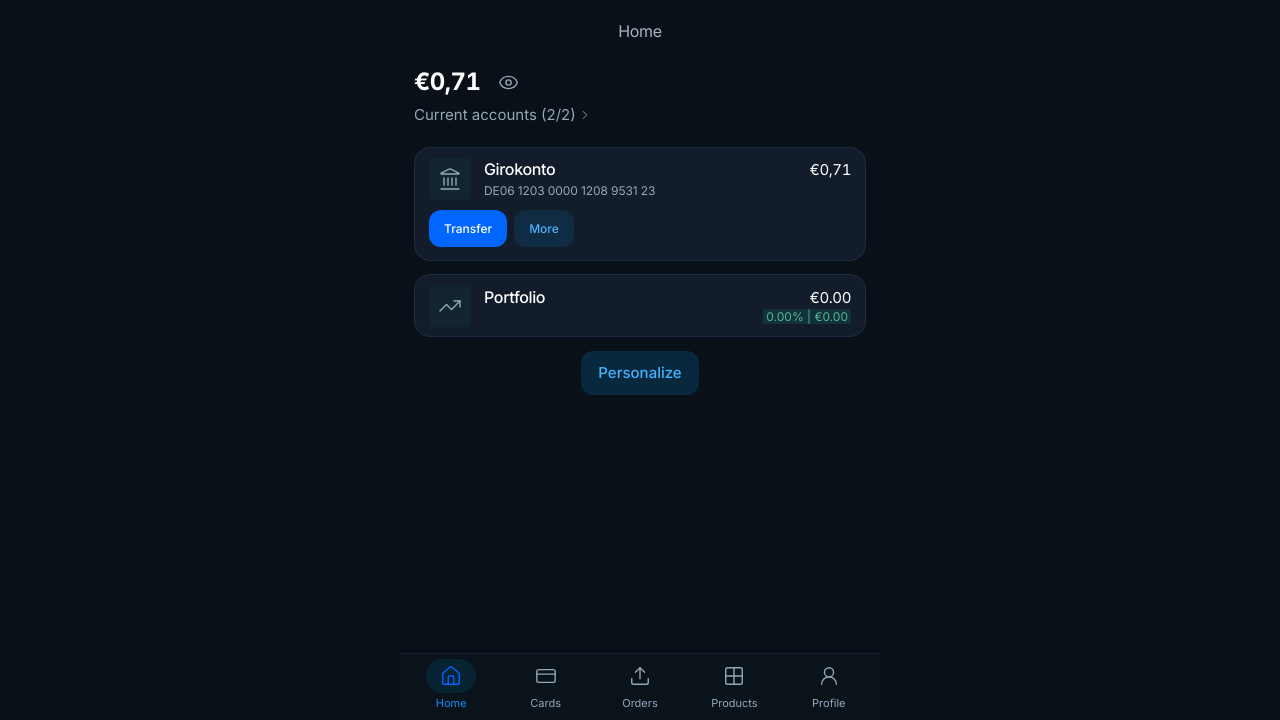
Test: More sheet and Home controls › dismisses via backdrop
Click the button "More" at (544, 228), box [514,210,574,247]
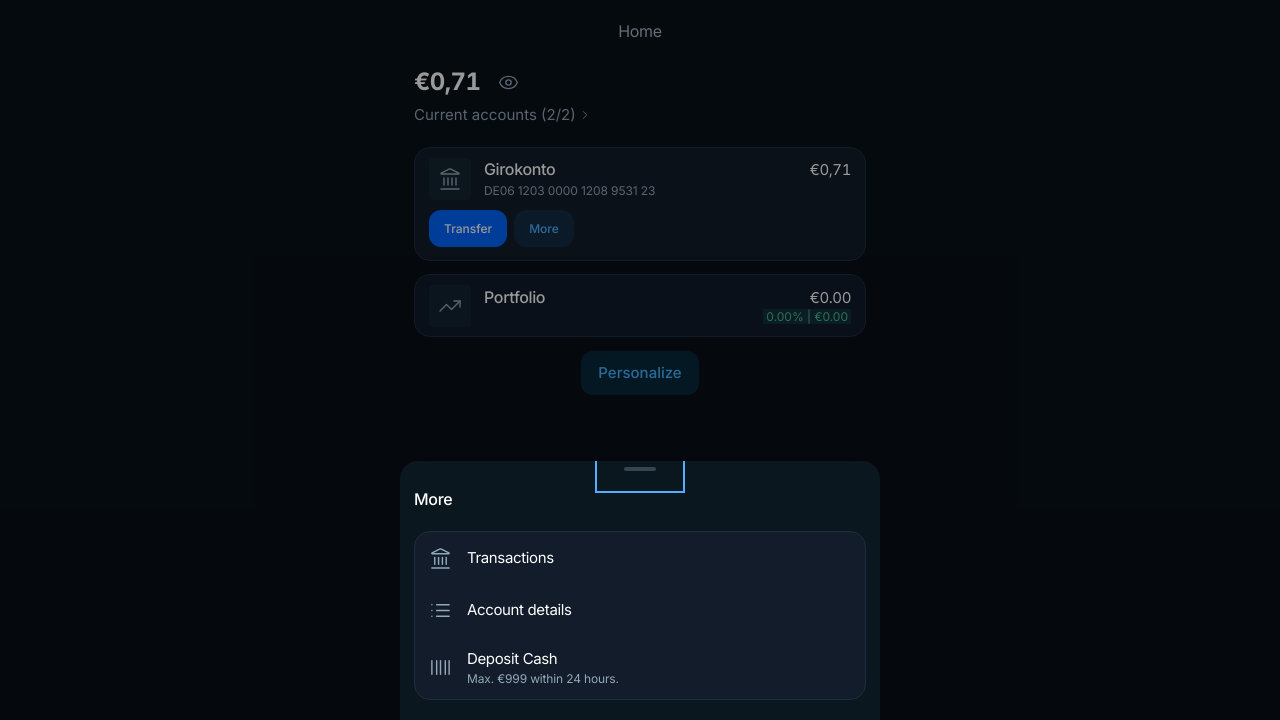
Now the dialog "More" is shown, box [400,461,880,719]
Now the text "Max. €999 within 24 hours." is shown, box [467,670,619,687]
Press the mouse on the element with test id "modal-backdrop" at (640, 360), box [0,0,1279,719]
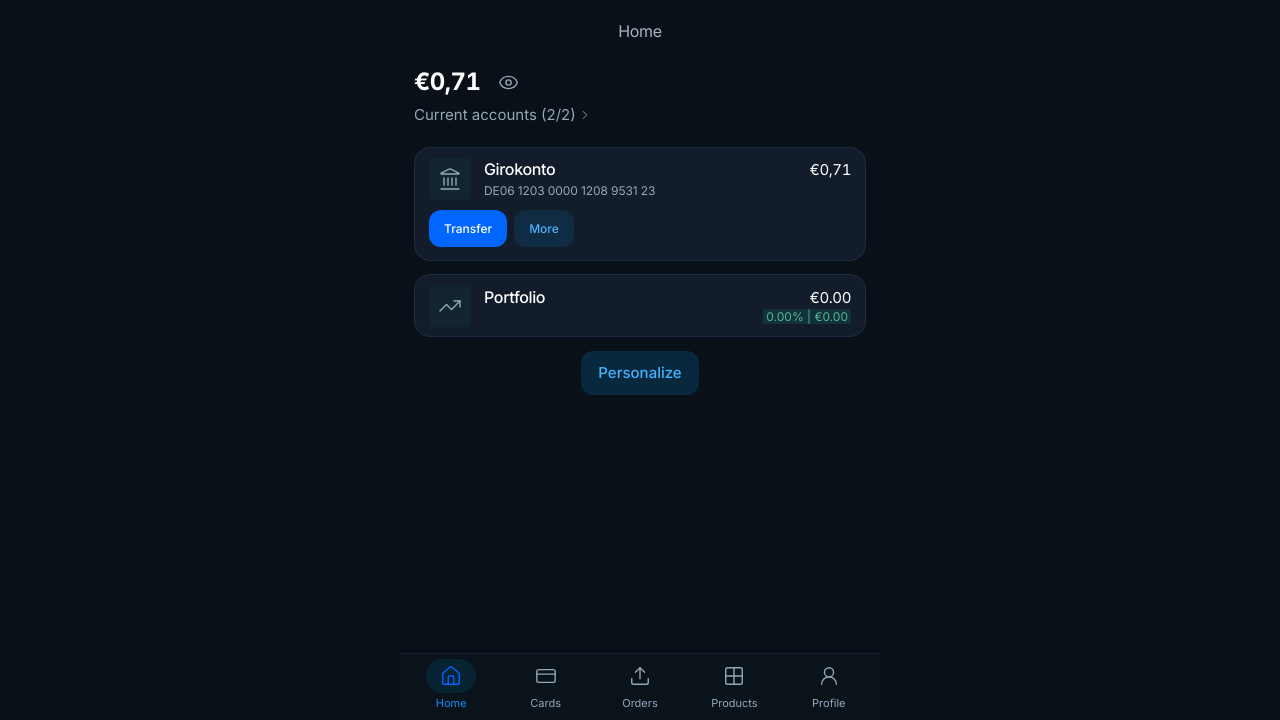
Expected: the text with test id "home-total" reads "€0,71", [414,67,480,96]
Now the dialog is gone
